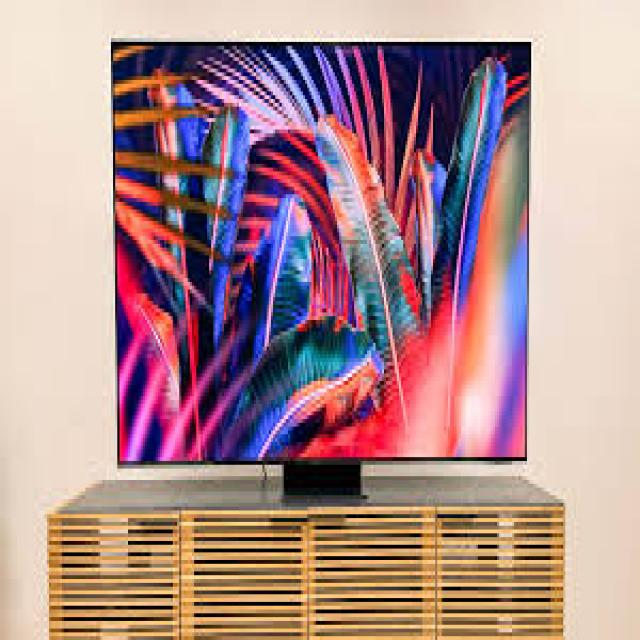tv: (104, 29, 536, 469)
